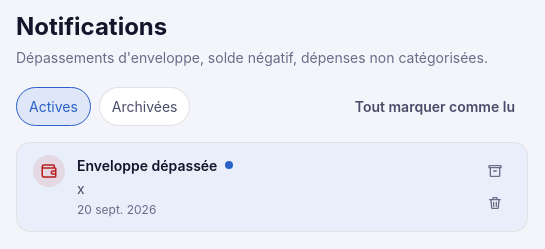
NotificationsPage — archivage et suppression › archiver retire la ligne et notifie
Step 1. Click the button named "Archiver" → (495, 170), box [479,154,511,186]
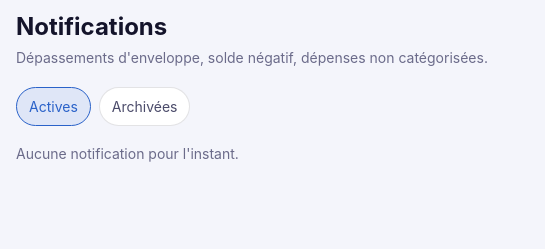
Expected: no list items with class "notification" are shown
